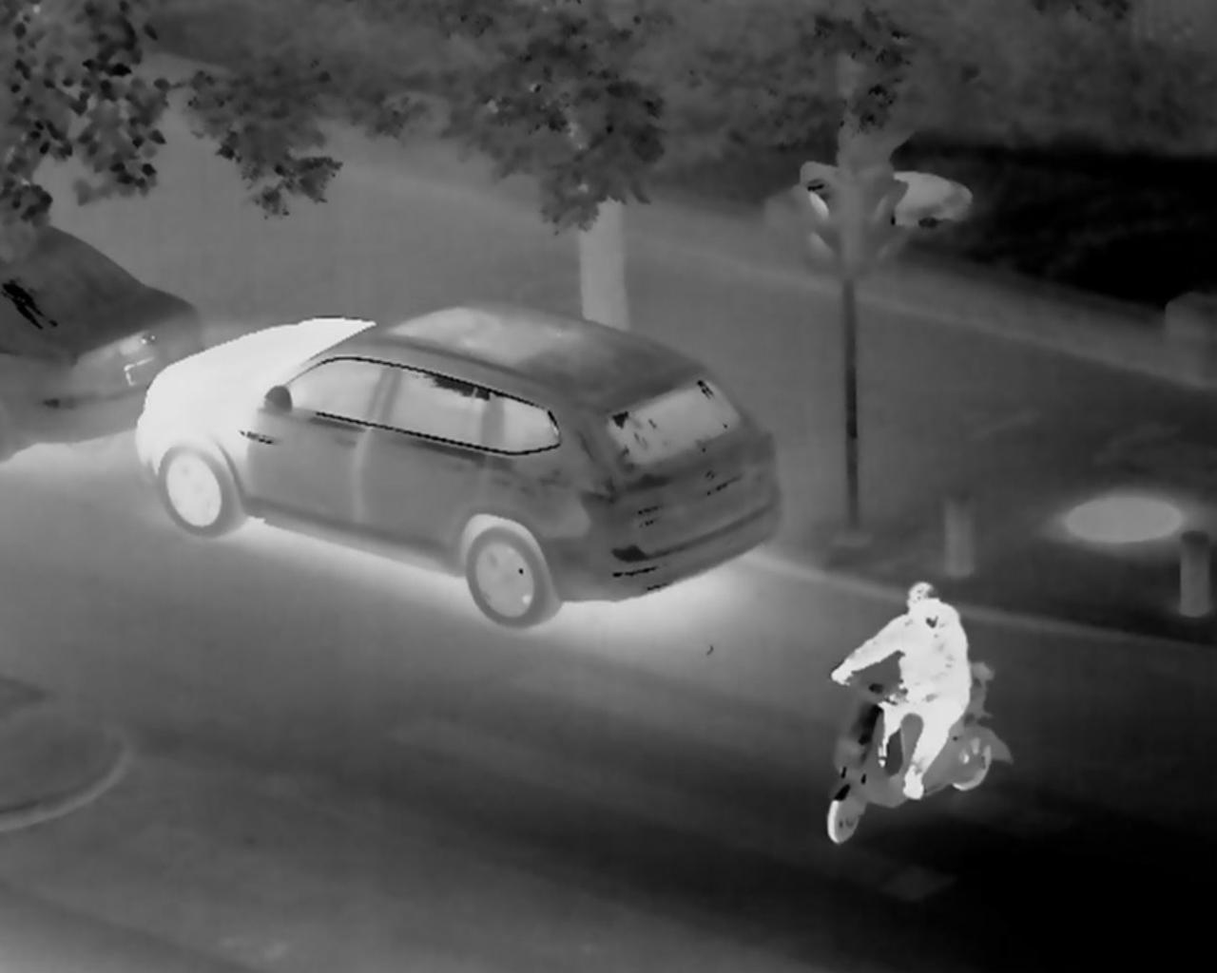person: (827, 572, 972, 804)
